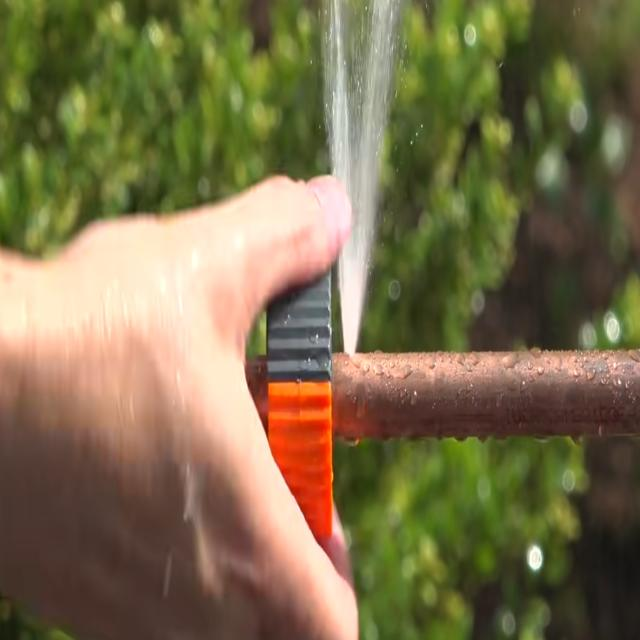leak: (324, 0, 400, 354)
